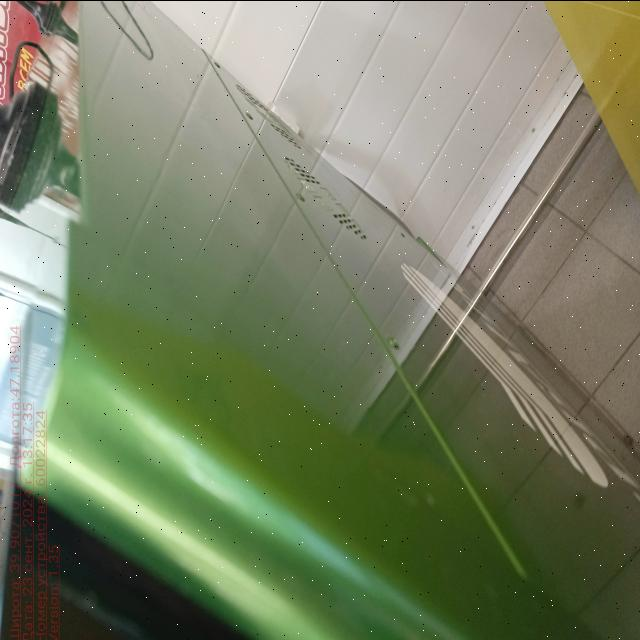bank: (16, 0, 640, 640)
